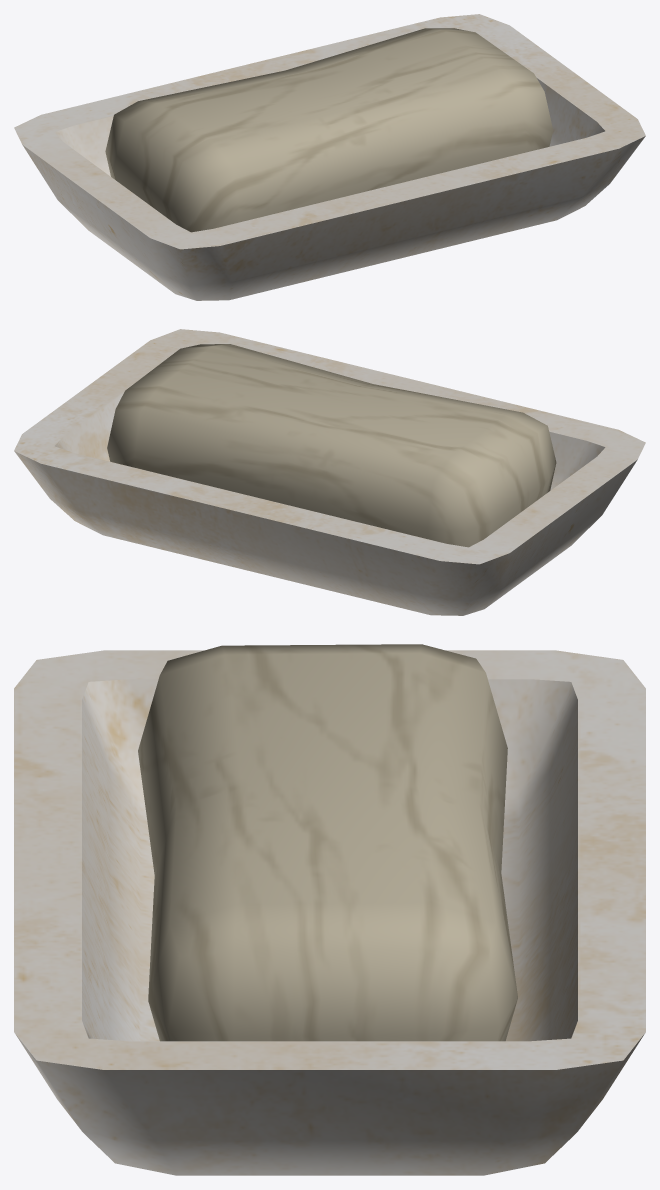
File: SoapDishSoap.fbx
3 renders of one model, top to bottom at view 1: azimuth 30°, elevation 25°; view 2: azimuth 150°, elevation 25°; view 3: azimuth 270°, elevation 25°, orthographic. The views are drawn at different scales.
Visible parts, largest first — view 1: SoapDishSoap; view 2: SoapDishSoap; view 3: SoapDishSoap.
Part boxes in pixels (x1,y1,x2,y2): SoapDishSoap: [14, 14, 645, 300]; SoapDishSoap: [14, 329, 645, 615]; SoapDishSoap: [14, 644, 645, 1175].
Bounding box in the file's own units: 11 × 2.98 × 7.
